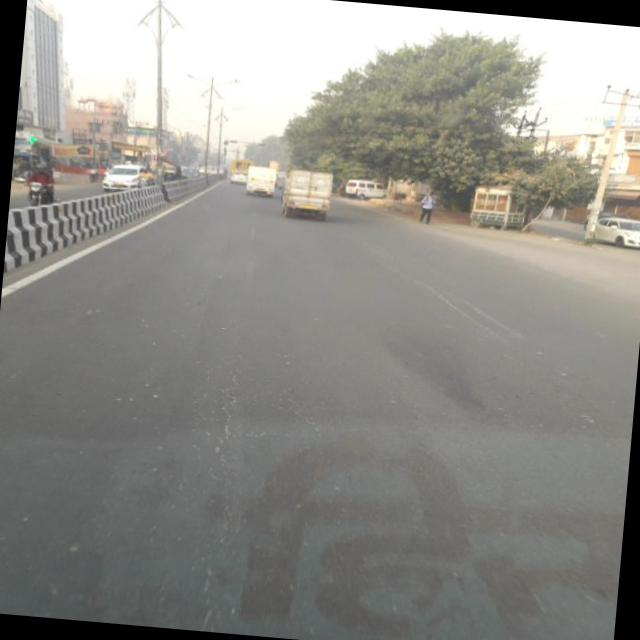crack: (150, 322, 340, 624)
